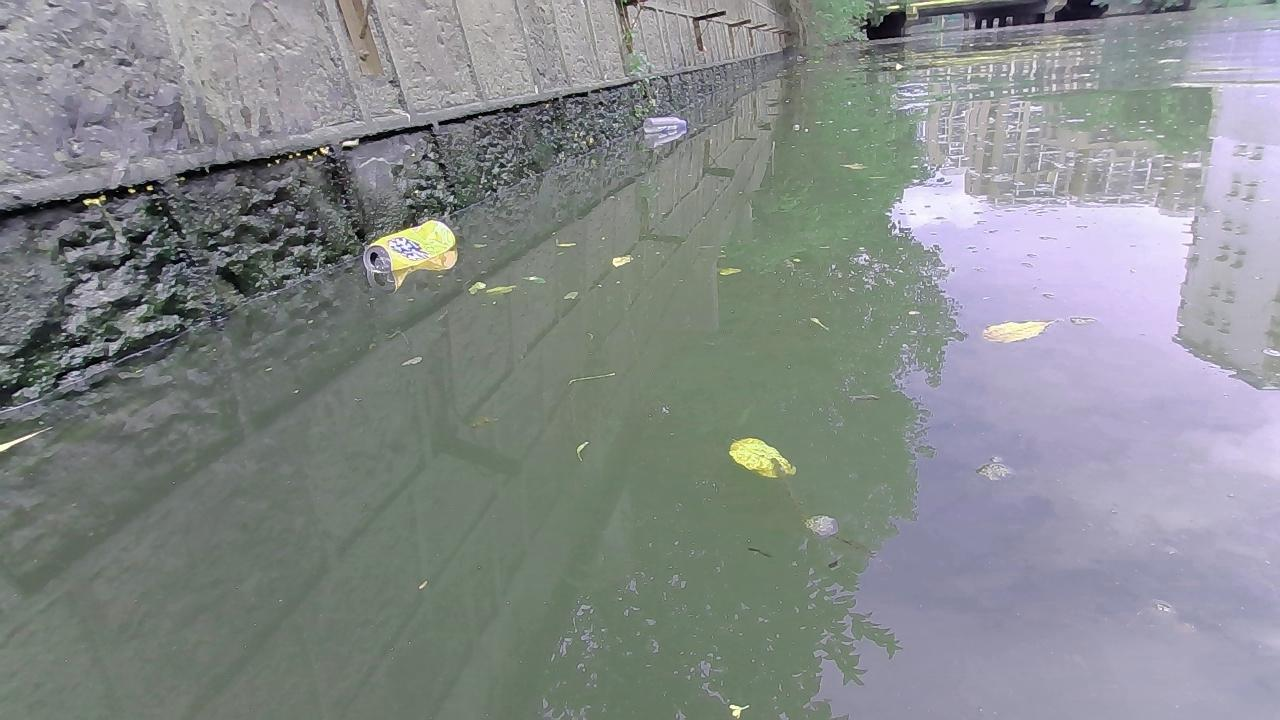Metal: (363, 219, 457, 275)
Plastic: (642, 116, 687, 134)
